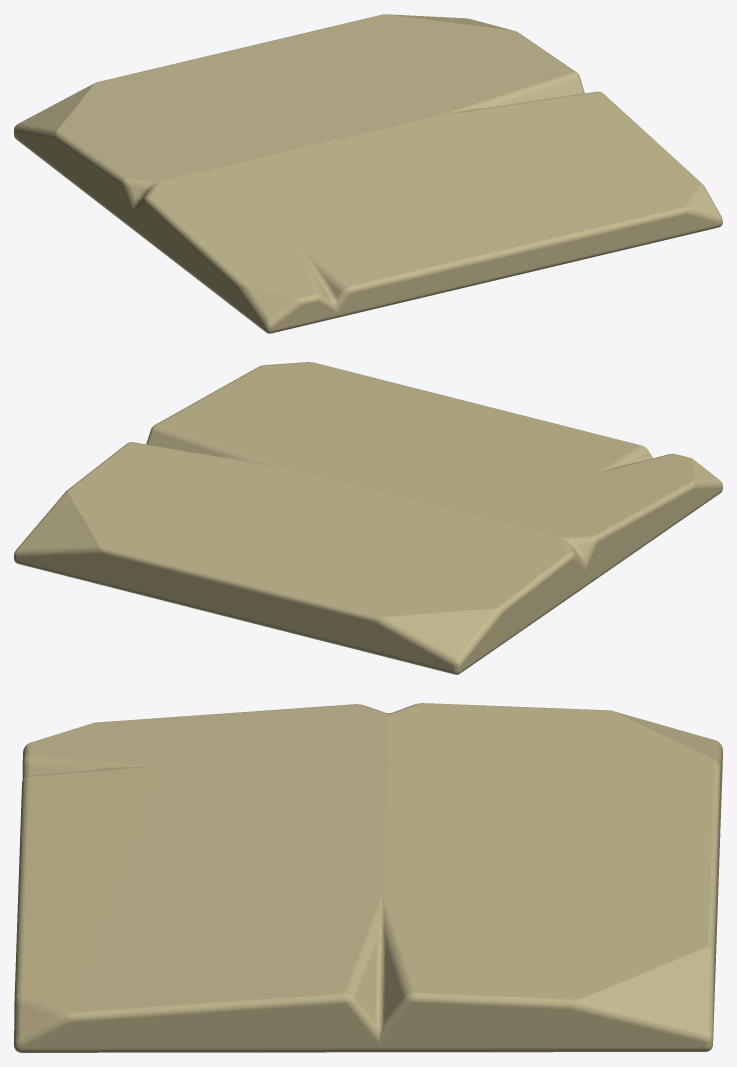
File: Tile2_high.fbx
3 views of the same model, one above another, from view 1: azimuth 30°, elevation 25°; view 2: azimuth 150°, elevation 25°; view 3: azimuth 270°, elevation 25° (orthographic). The views are drawn at different scales.
Parts seen in each view (by area): view 1: Tile1_high.003; view 2: Tile1_high.003; view 3: Tile1_high.003.
Part boxes in pixels (x1,y1,x2,y2): Tile1_high.003: [14, 14, 722, 333]; Tile1_high.003: [14, 362, 722, 674]; Tile1_high.003: [14, 703, 722, 1052].
Size of the model in its own units: 68.91 by 6.86 by 68.91.
